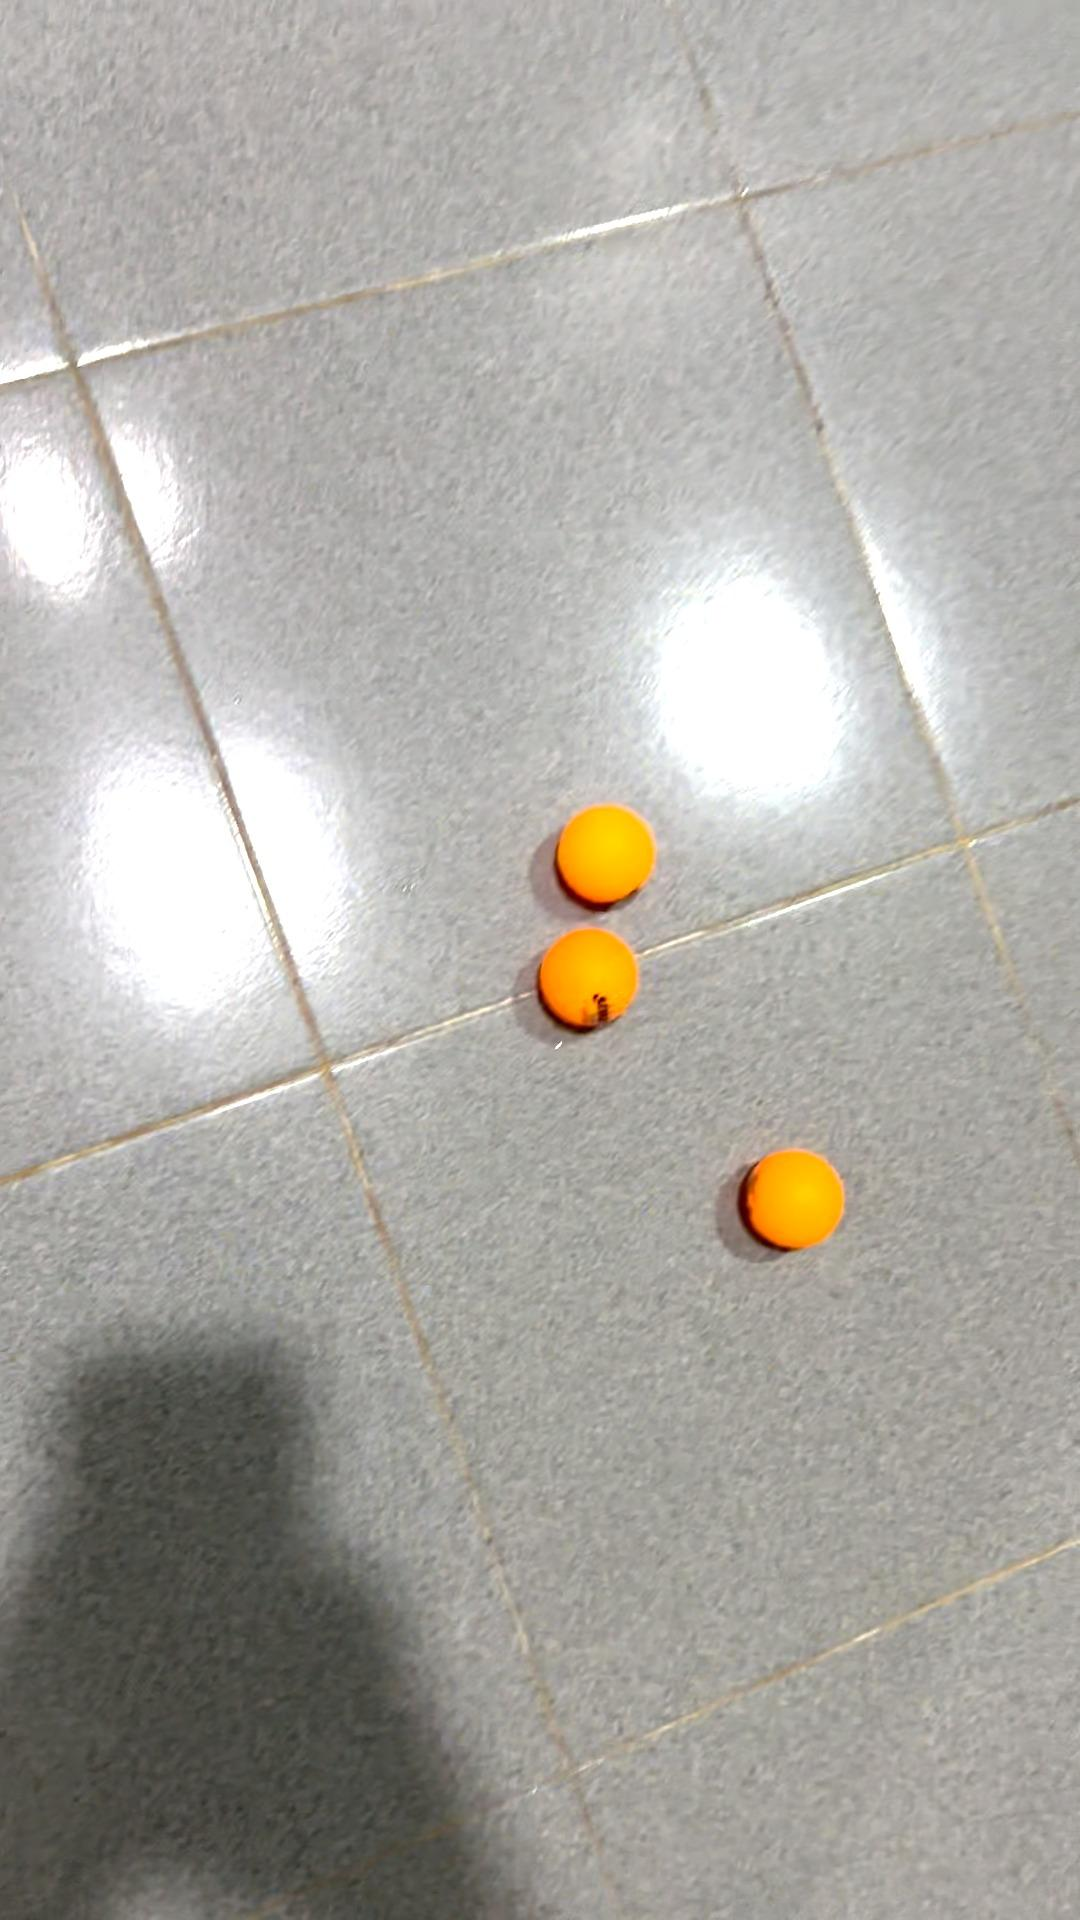oball: (735, 1138, 857, 1255), (538, 922, 646, 1048), (550, 793, 657, 913)
